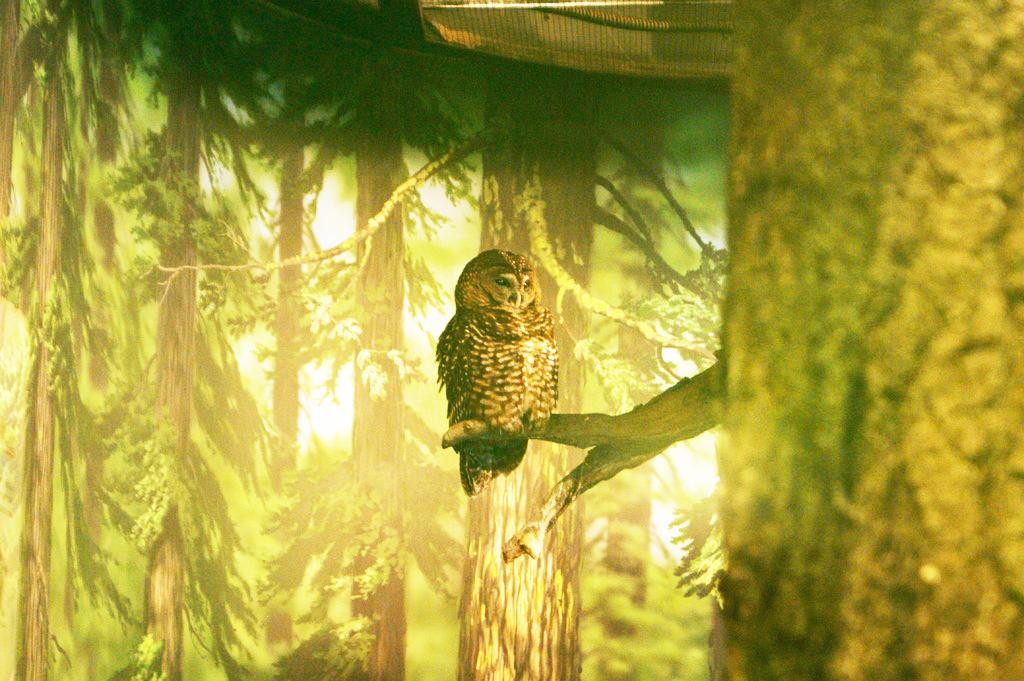Owl: (436, 249, 560, 493)
